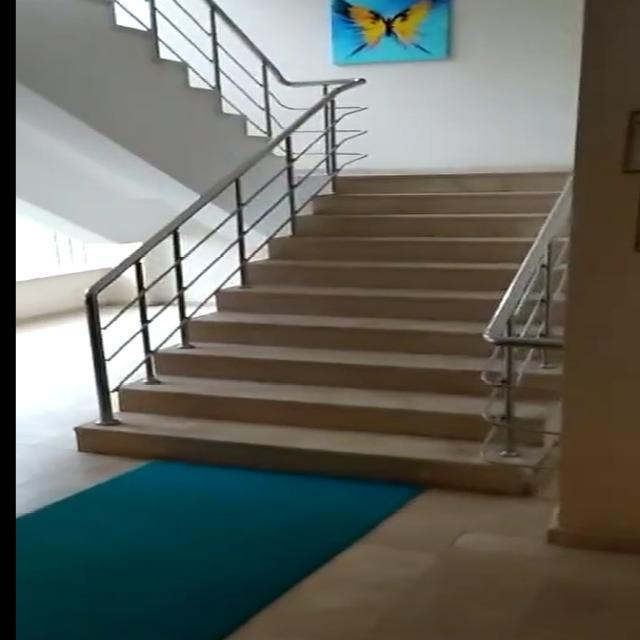stairs: (74, 169, 570, 496)
